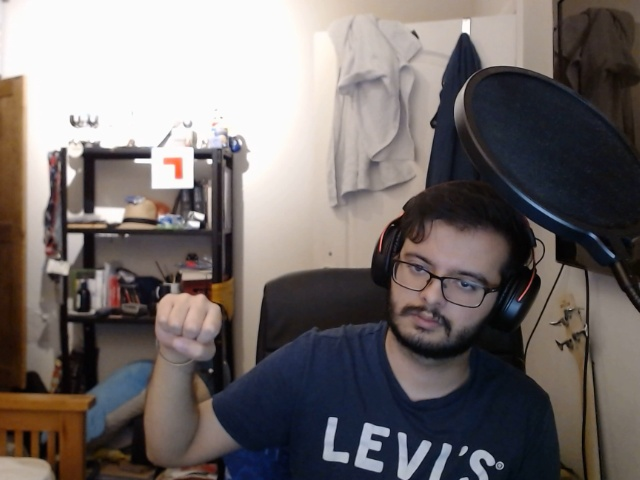Yes: (144, 280, 224, 361)
